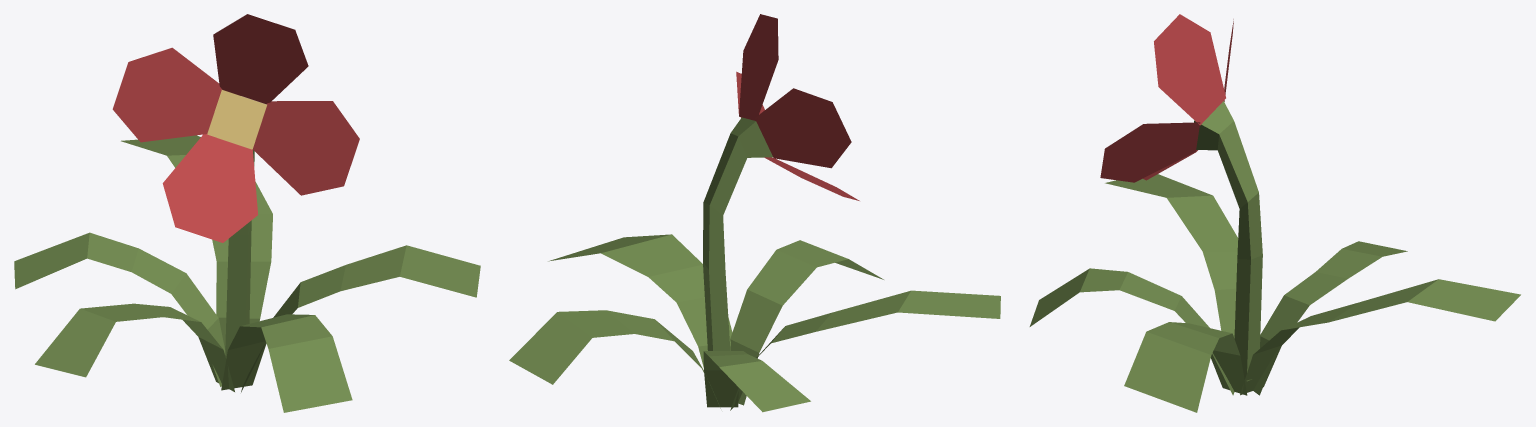
Rendered from flower.glb.
3 views of the same model, side by side, from view 1: azimuth 30°, elevation 25°; view 2: azimuth 150°, elevation 25°; view 3: azimuth 270°, elevation 25° (orthographic). The views are drawn at different scales.
Visible parts, largest first — view 1: Flower_Red_01.002; view 2: Flower_Red_01.002; view 3: Flower_Red_01.002.
Part boxes in pixels (box(x1,y1,x2,y2)): Flower_Red_01.002: box(14, 14, 480, 412); Flower_Red_01.002: box(509, 14, 1000, 412); Flower_Red_01.002: box(1029, 14, 1520, 412).
Size of the model in its own units: 4.27 by 3.47 by 4.22.
